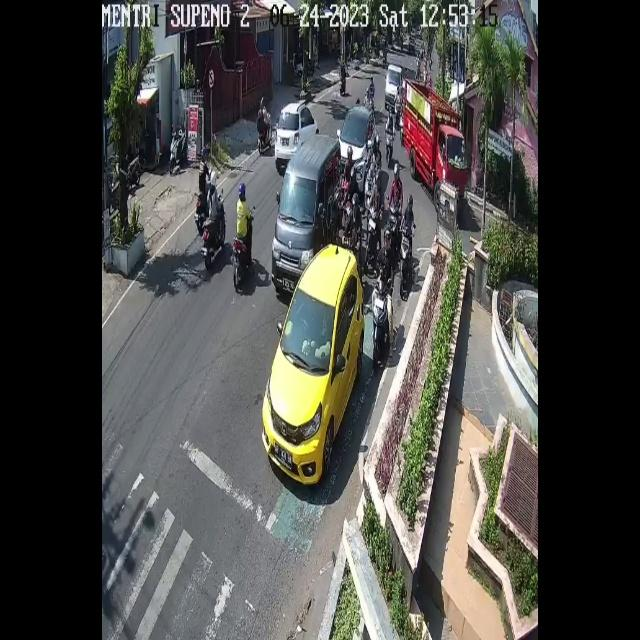bus: (202, 194, 226, 268), (372, 279, 389, 371), (232, 210, 252, 288), (195, 170, 218, 236), (399, 227, 413, 296), (258, 112, 272, 156), (367, 205, 380, 252), (387, 202, 401, 235), (385, 127, 394, 166), (364, 175, 375, 194), (395, 99, 401, 127)
motorcycle: (262, 244, 364, 486), (272, 133, 342, 293), (274, 102, 320, 168), (339, 105, 380, 177), (385, 63, 403, 110)
truck: (402, 78, 468, 199)
